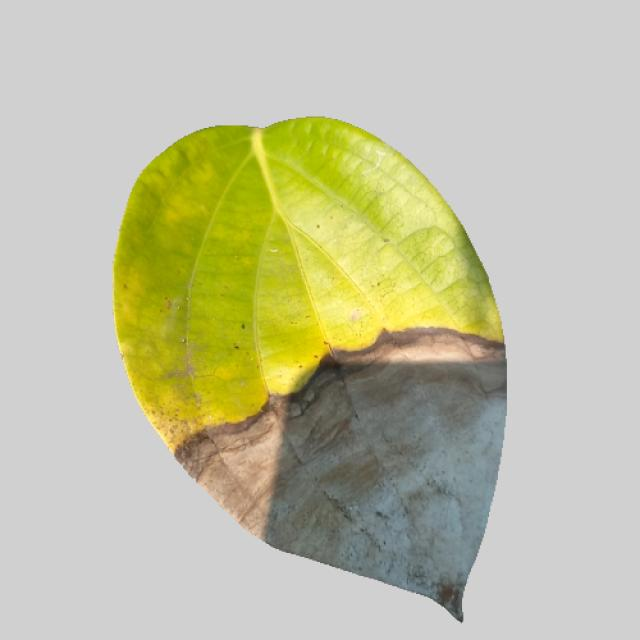leaf-blight: (106, 105, 507, 633)
